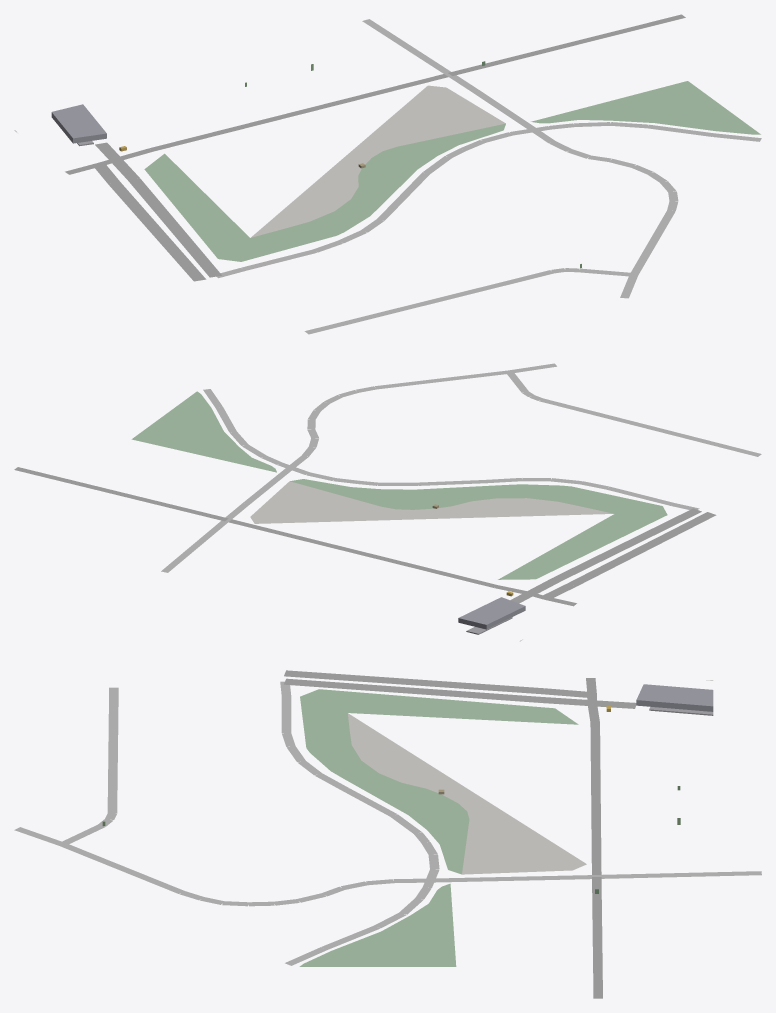
3 renders of one model, top to bottom at view 1: azimuth 30°, elevation 25°; view 2: azimuth 150°, elevation 25°; view 3: azimuth 270°, elevation 25°, orthographic. The views are drawn at different scales.
Size of the model in its own units: 574 by 11.5 by 546.
